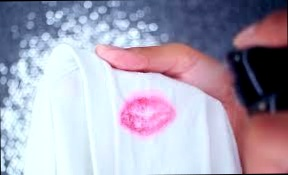lipstick: (121, 92, 180, 139)
